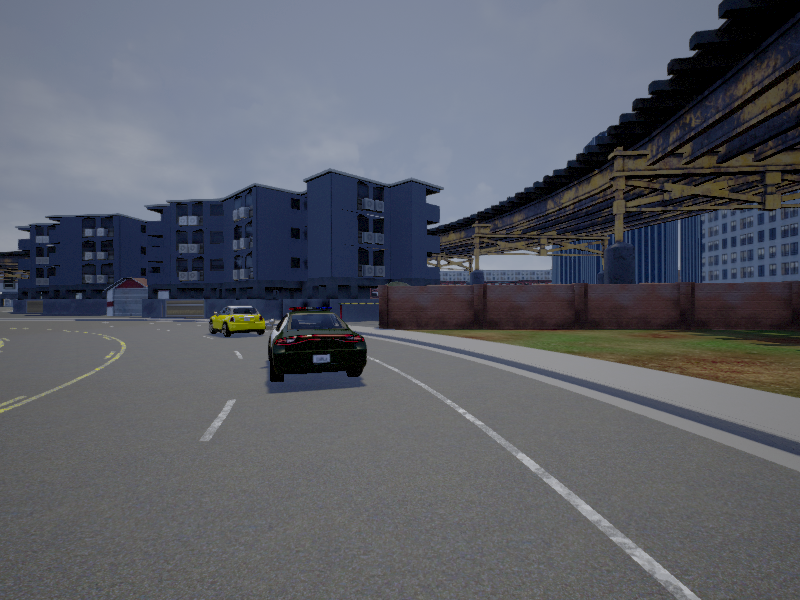Benign: (270, 308, 368, 384), (208, 306, 267, 337)
